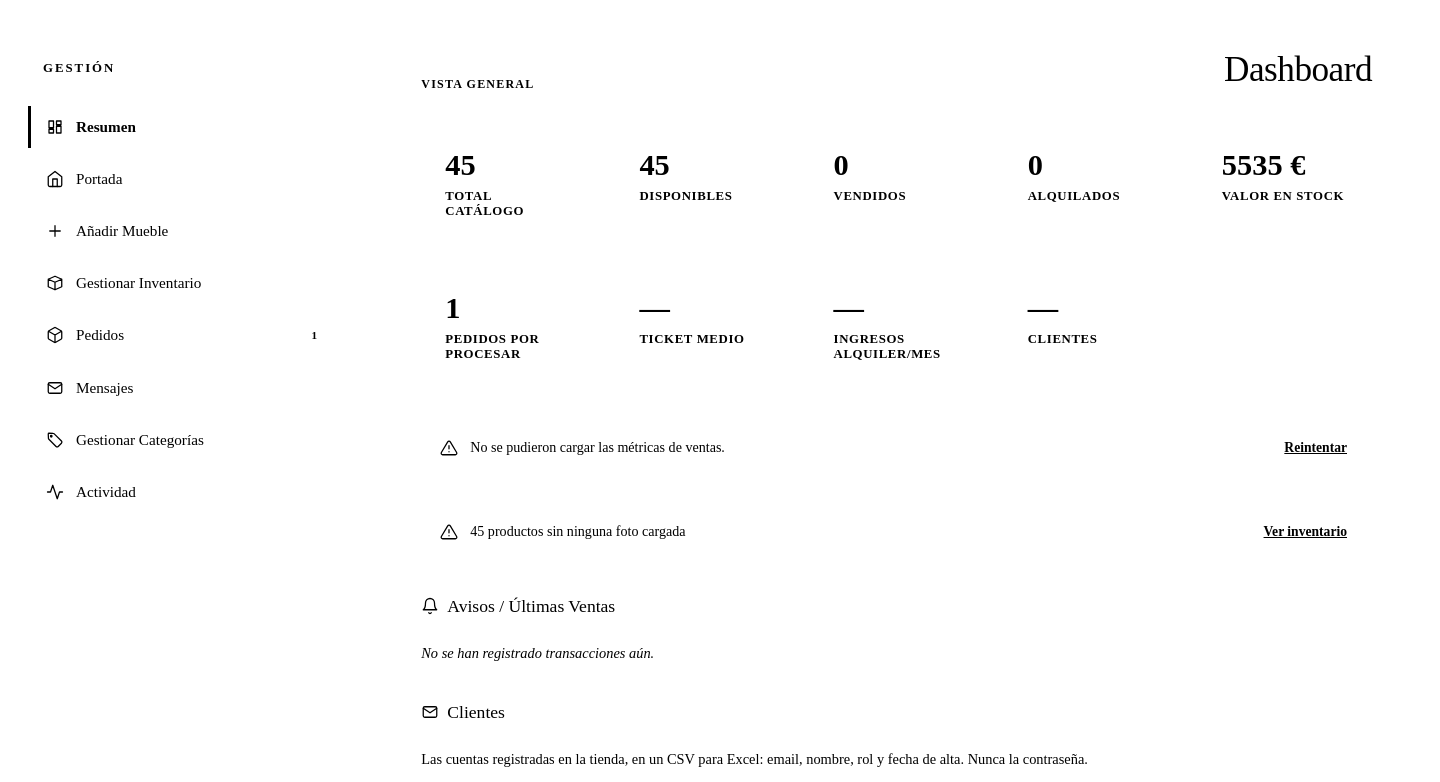
Test case: Navegación — lo que se conserva al cambiar de pestaña y volver › "Añadir mueble" a medio rellenar
The image size is (1440, 782).
Step 1. Click the button "Añadir Mueble" → (122, 230), box [28,210,341,252]
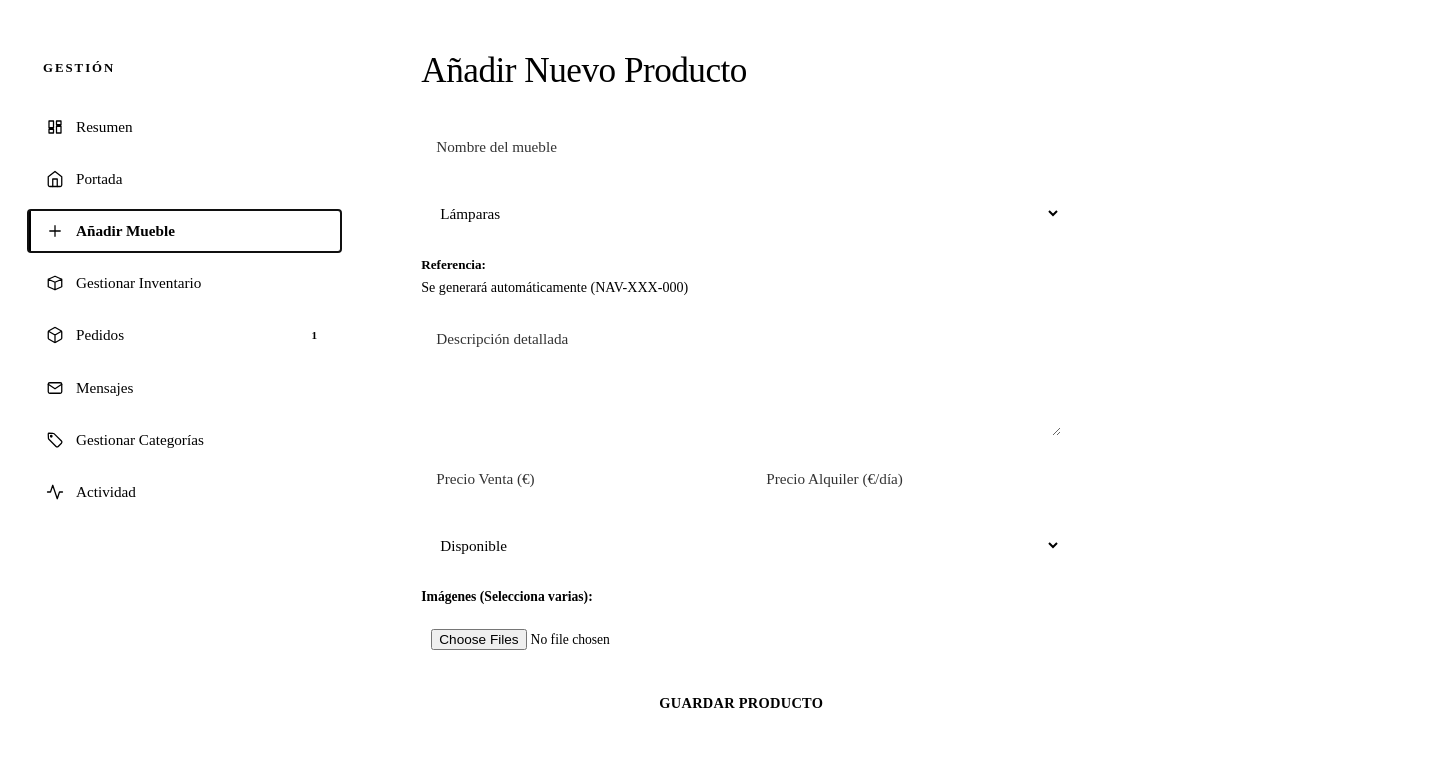
Step 2. Type "Silla nueva" into the field with placeholder "Nombre del mueble" → (741, 147), box [421,124,1061,170]
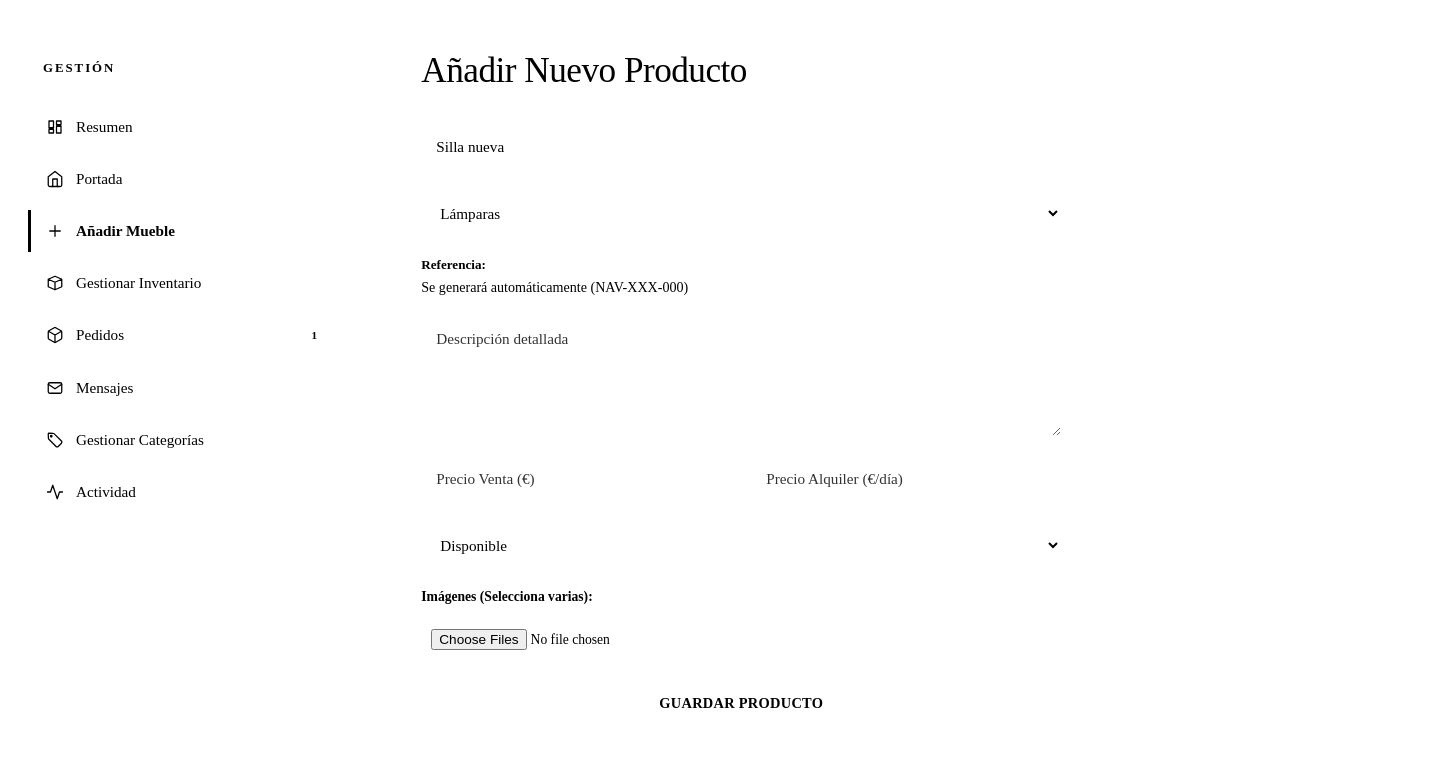
Step 3. Select "Mesas" in the dropdown named "Categoría" → (741, 213), box [421,190,1061,237]
Step 4. Type "A medias" into the text box with placeholder "Descripción detallada" → (741, 376), box [421,316,1061,436]
Step 5. Type "99" into the number field with placeholder "Precio Venta (€)" → (576, 479), box [421,456,731,502]
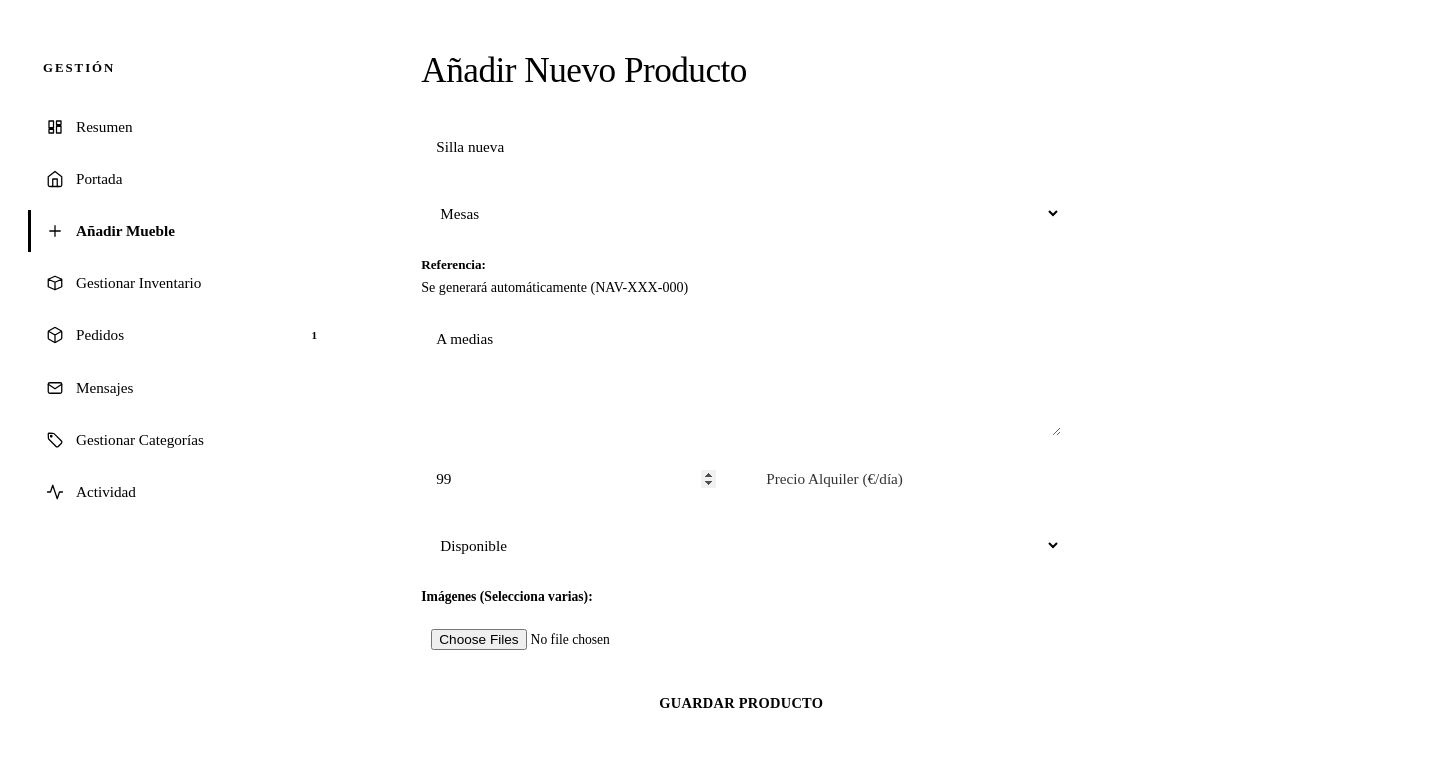
Step 6. Select "Vendido" in the dropdown named "Estado del mueble" → (741, 545), box [421,522,1061,569]
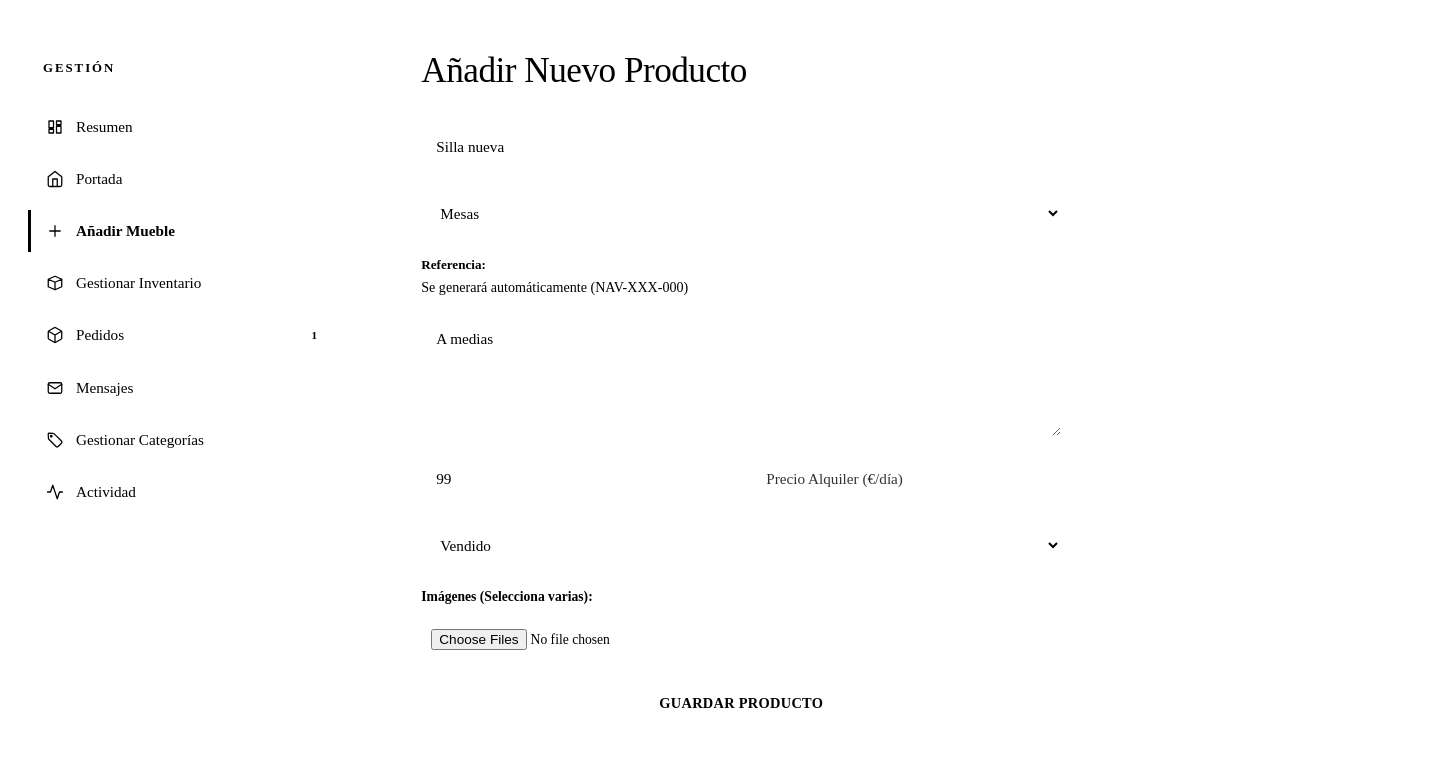
Step 7. Click the button "Gestionar Categorías" → (185, 440), box [28,419,341,461]
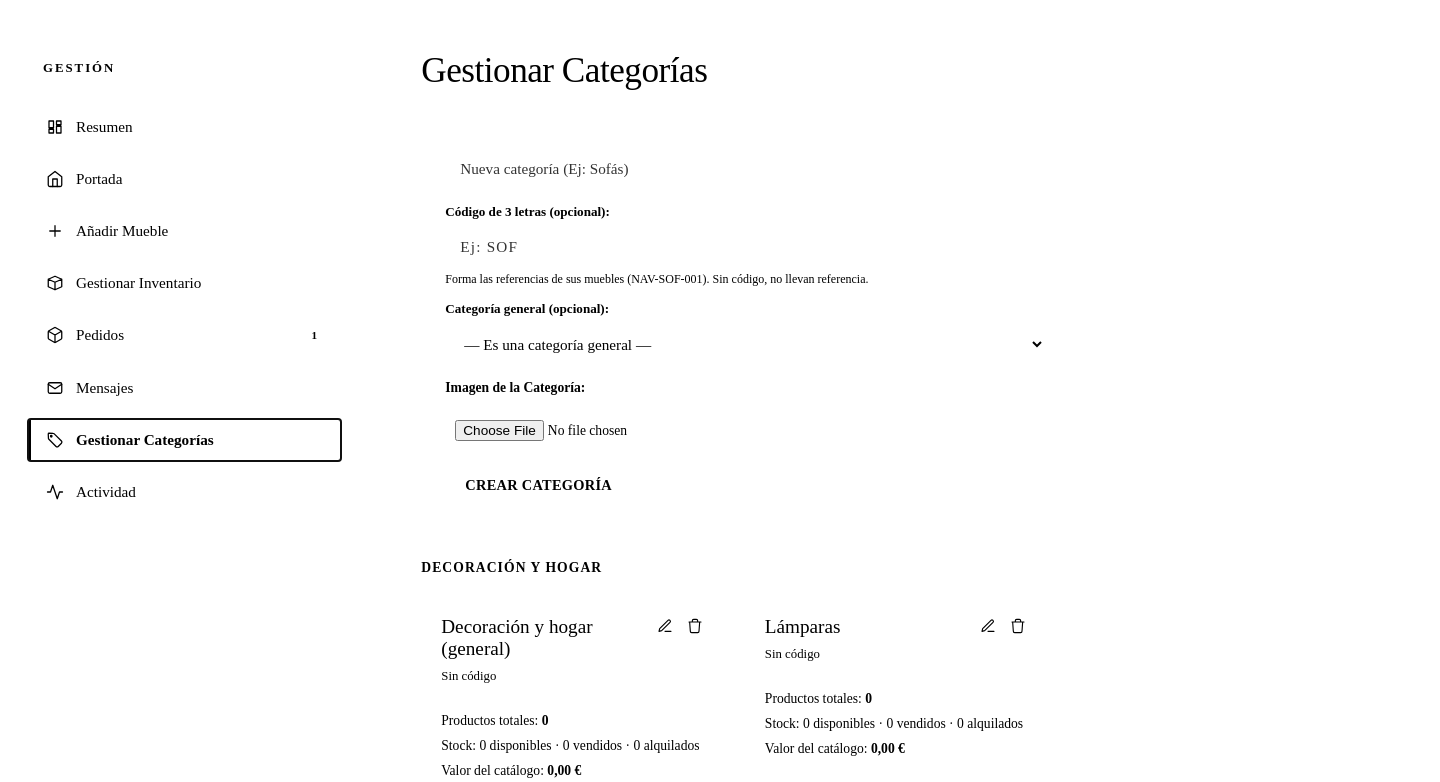
Step 8. Click the button "Añadir Mueble" → (122, 230), box [28,210,341,252]
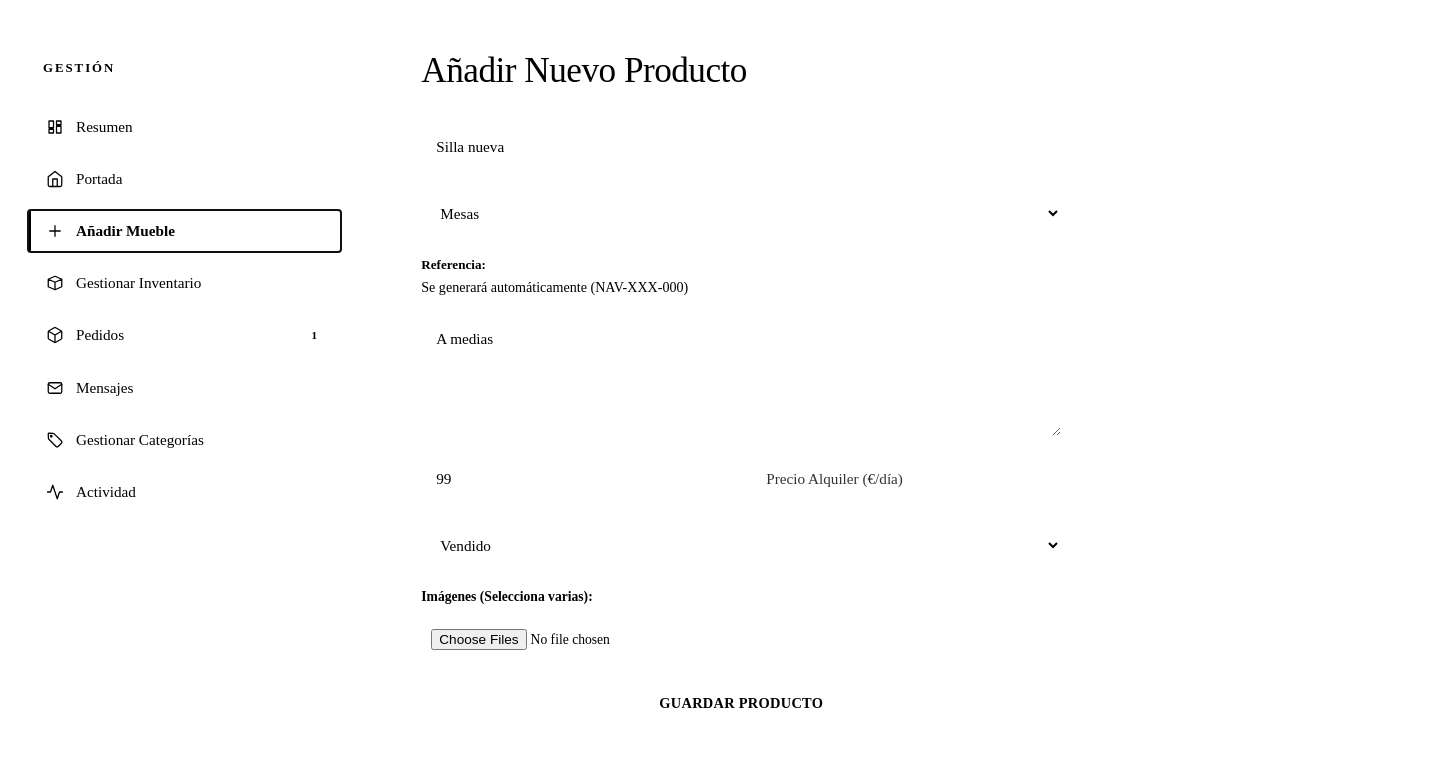
Check: the field with placeholder "Nombre del mueble" holds "Silla nueva", box [421,124,1061,170]
Check: the text box with placeholder "Descripción detallada" holds "A medias", box [421,316,1061,436]
Check: the number field with placeholder "Precio Venta (€)" holds "99", box [421,456,731,502]
